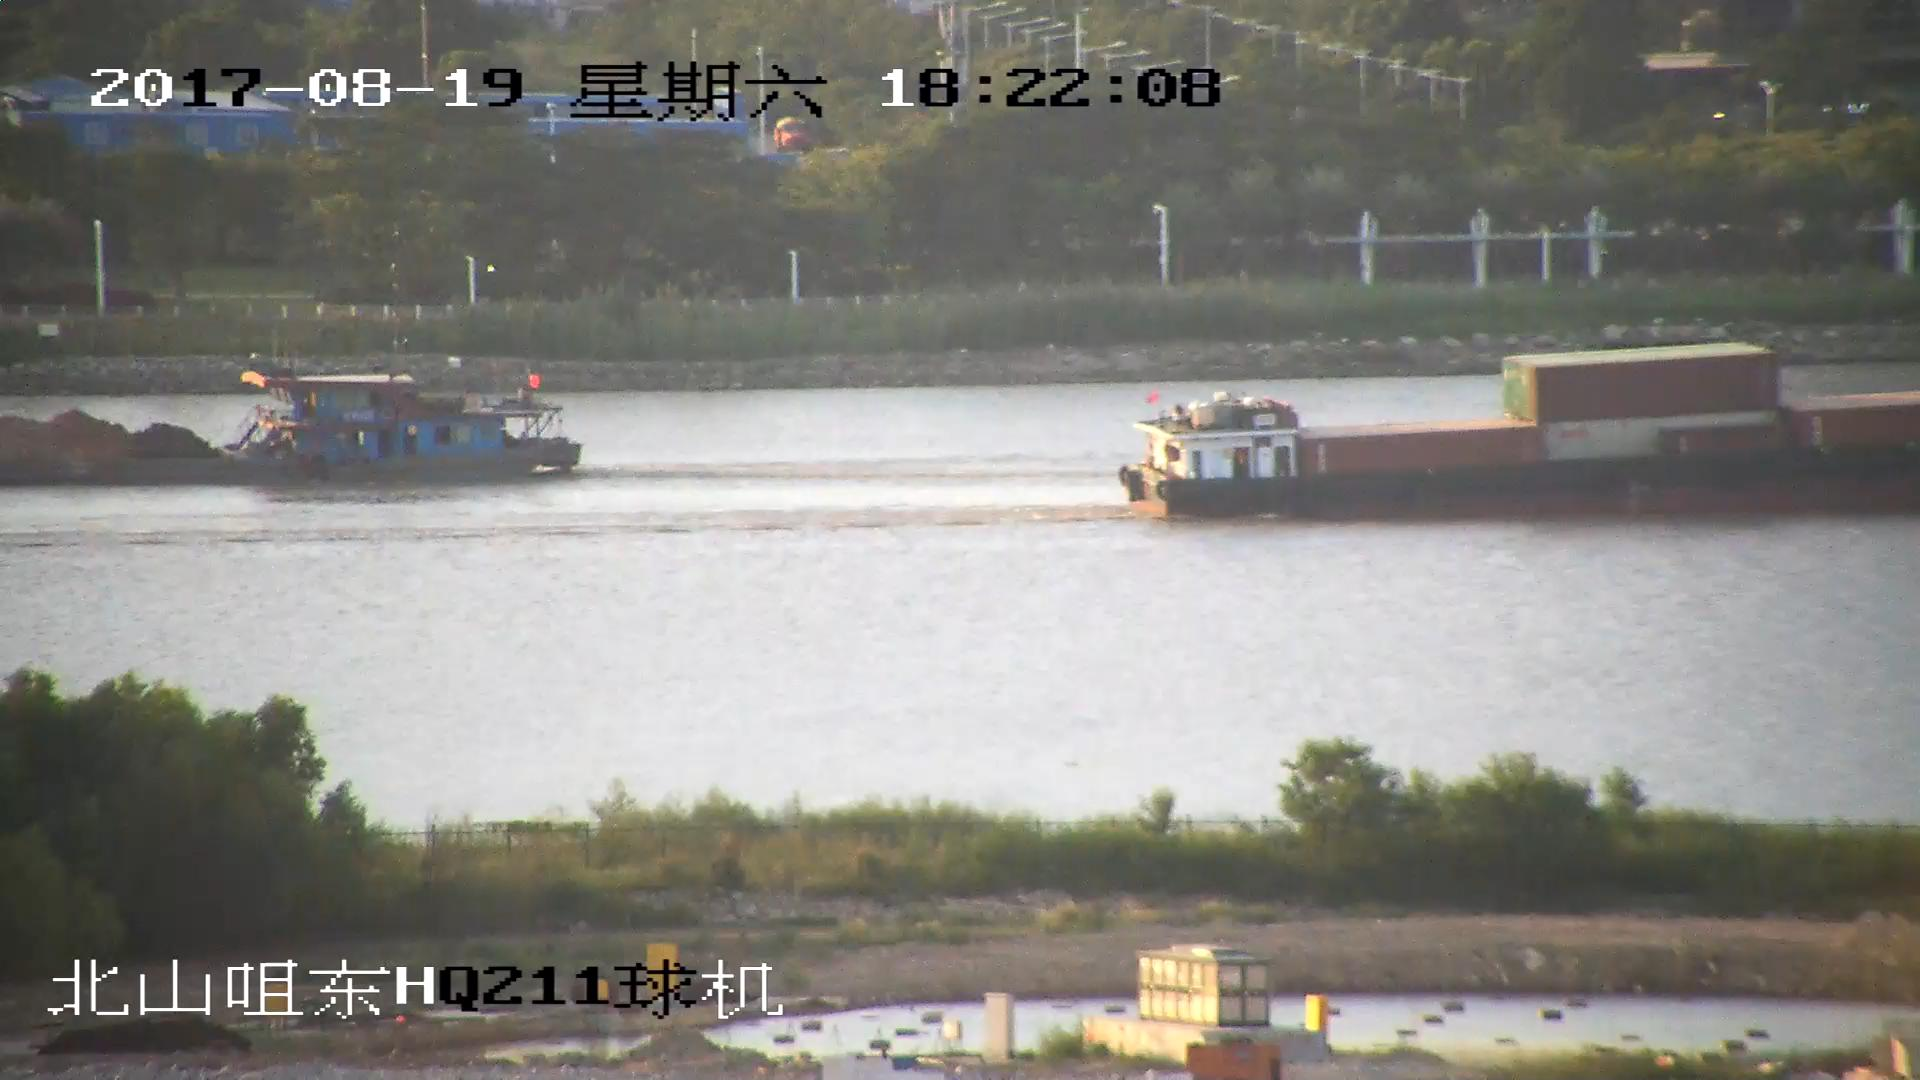container ship: (1122, 339, 1920, 521)
ore carrier: (1, 357, 584, 488)
